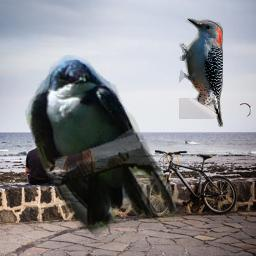Swallow: (25, 55, 182, 243)
Woodpecker: (179, 16, 223, 127)
